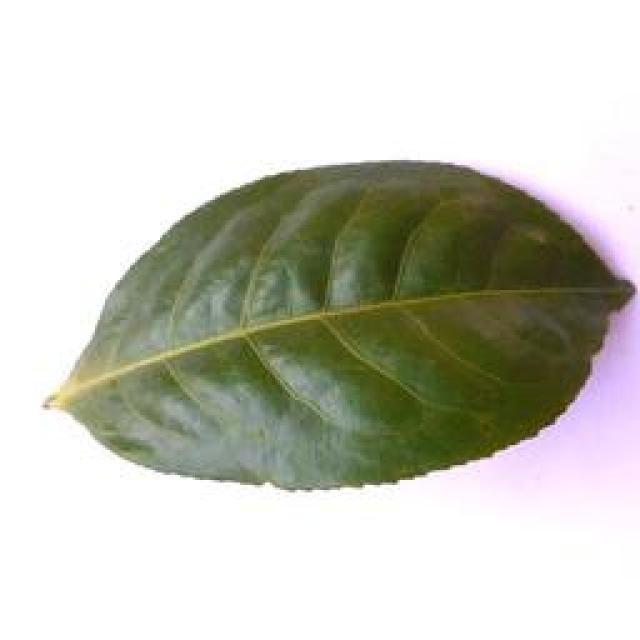Healthy: (29, 158, 624, 477)
